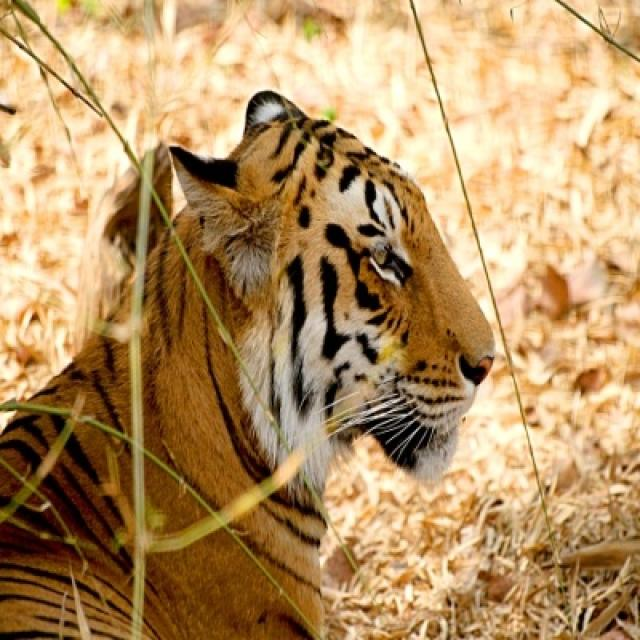Tiger: (0, 86, 494, 638)
